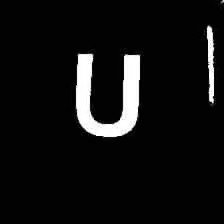LTR_U: (67, 41, 146, 145)
